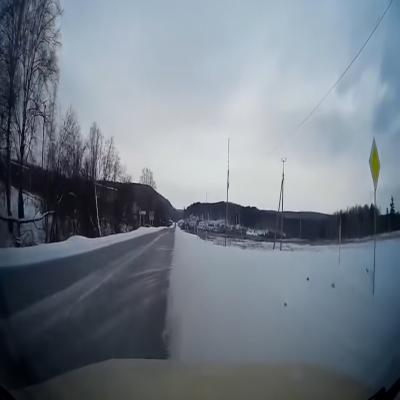iced-road: (0, 230, 174, 389)
